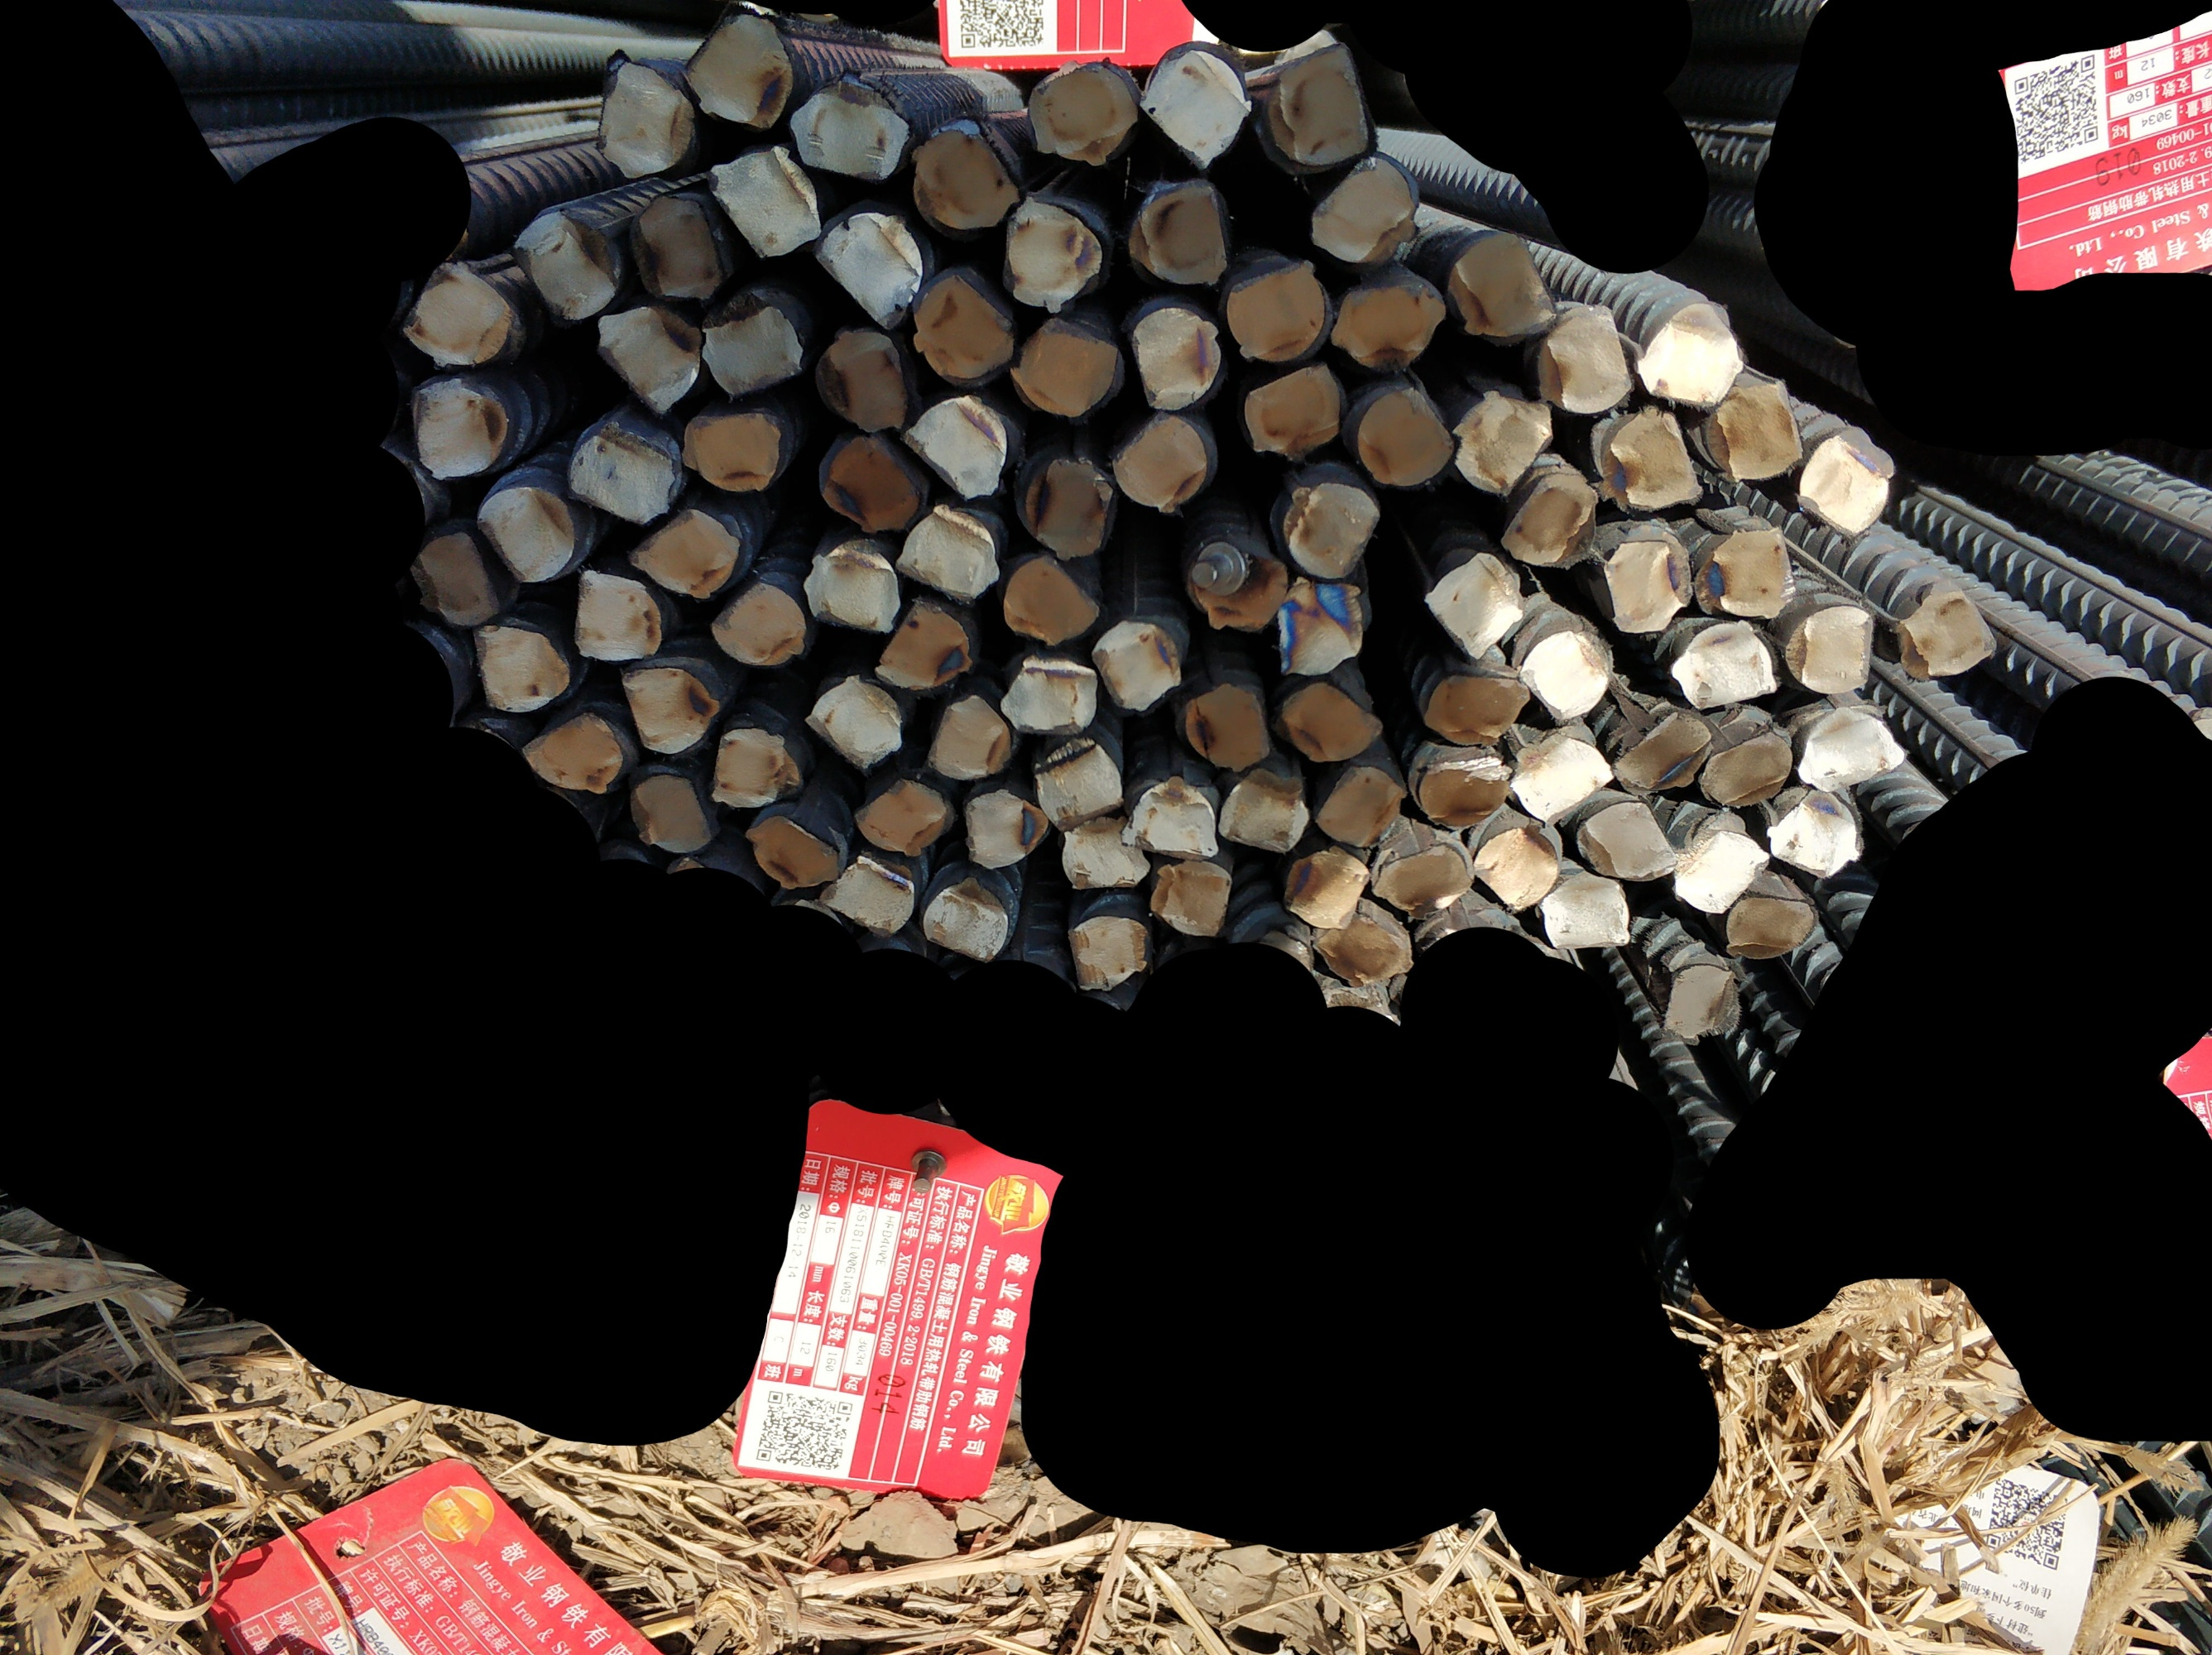rebar: (674, 2, 801, 136), (803, 207, 928, 336), (1135, 47, 1255, 169), (785, 73, 912, 188), (587, 54, 697, 183), (996, 189, 1109, 313), (1268, 40, 1373, 170), (912, 118, 1025, 236), (702, 150, 822, 261), (1527, 299, 1639, 419), (1439, 228, 1555, 341), (1635, 296, 1748, 412), (394, 266, 516, 374), (558, 421, 678, 528), (1027, 61, 1140, 174), (1420, 548, 1529, 664), (586, 309, 705, 415), (511, 209, 624, 320), (911, 271, 1020, 386), (1107, 402, 1215, 518), (904, 384, 1010, 502), (1793, 417, 1897, 537), (1272, 476, 1387, 584), (1454, 382, 1559, 501), (813, 322, 916, 440), (1010, 311, 1121, 419), (1128, 174, 1234, 287), (1352, 377, 1458, 490), (627, 506, 749, 603), (1307, 155, 1416, 263), (1706, 374, 1805, 490), (1329, 278, 1447, 376), (890, 497, 997, 603), (817, 435, 928, 537), (1606, 403, 1706, 516), (1121, 302, 1220, 415), (405, 376, 509, 482), (997, 546, 1102, 652), (474, 482, 577, 589), (1222, 263, 1329, 365), (1760, 777, 1868, 880), (629, 196, 728, 308), (695, 306, 808, 403), (1595, 532, 1698, 638), (1689, 522, 1798, 621), (1268, 681, 1390, 770), (1512, 723, 1616, 826), (1613, 699, 1717, 801), (801, 675, 909, 774), (1018, 455, 1117, 563), (1500, 466, 1599, 574), (867, 595, 978, 690), (1776, 598, 1878, 701), (563, 563, 664, 668), (1896, 574, 1997, 678), (796, 542, 902, 641), (1185, 537, 1293, 635), (1672, 819, 1772, 921), (1274, 574, 1369, 681), (1666, 622, 1785, 709), (513, 709, 627, 798), (1119, 772, 1222, 871), (1237, 365, 1343, 461), (1084, 614, 1185, 713), (466, 621, 573, 713), (1795, 706, 1911, 791), (1420, 668, 1533, 754), (1220, 760, 1315, 862), (917, 862, 1013, 963), (1517, 622, 1613, 723), (1698, 715, 1797, 810), (619, 662, 719, 756), (1573, 793, 1679, 881), (992, 648, 1100, 735), (1307, 904, 1416, 989), (403, 532, 500, 628), (1034, 732, 1126, 833), (705, 582, 810, 671), (679, 412, 789, 495), (1472, 817, 1562, 918), (1308, 760, 1407, 850), (924, 694, 1017, 789), (1176, 681, 1275, 770), (1277, 841, 1376, 930), (1368, 840, 1474, 921), (818, 850, 916, 939), (1533, 869, 1637, 951), (705, 727, 805, 812), (959, 779, 1050, 869), (850, 775, 950, 855), (1050, 814, 1150, 894), (1413, 751, 1512, 831), (742, 815, 843, 894), (1150, 857, 1237, 944), (1659, 956, 1745, 1045), (624, 775, 718, 855), (1722, 888, 1821, 963), (1065, 913, 1152, 996)
